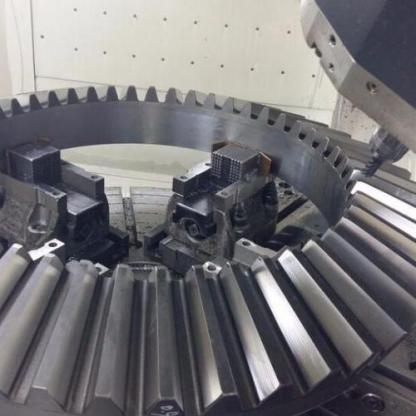FOD: (0, 82, 409, 415)
